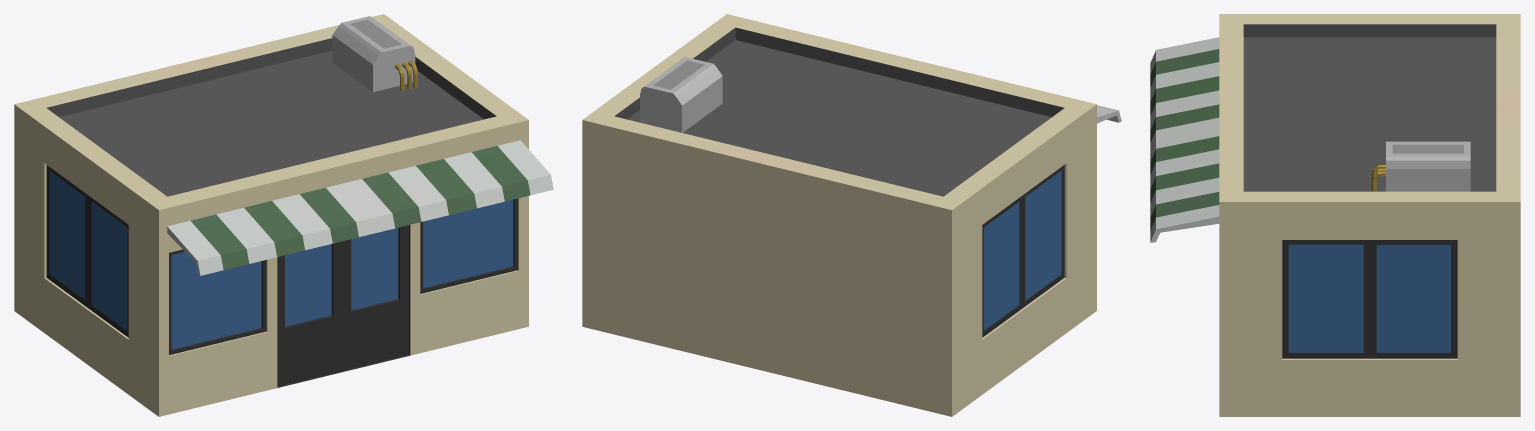
The model's file is store.glb.
3 renders of one model, left to right at view 1: azimuth 30°, elevation 25°; view 2: azimuth 150°, elevation 25°; view 3: azimuth 270°, elevation 25°, orthographic. The views are drawn at different scales.
Visible parts, largest first — view 1: Cube; view 2: Cube; view 3: Cube.
Boxes of the visible parts, bbox=[...] form: Cube: bbox=[14, 14, 553, 416]; Cube: bbox=[582, 14, 1121, 416]; Cube: bbox=[1150, 14, 1520, 416].
Size of the model in its own units: 4.68 by 2.81 by 3.9.
Materials: 1 (1 with a texture image).
